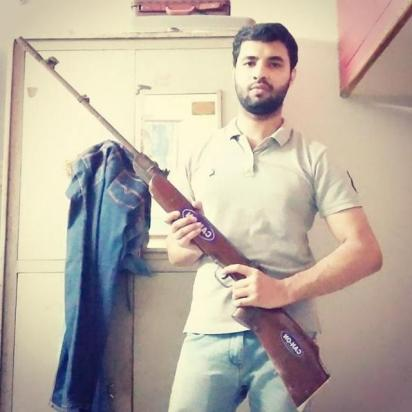Gun: (15, 34, 338, 411)
